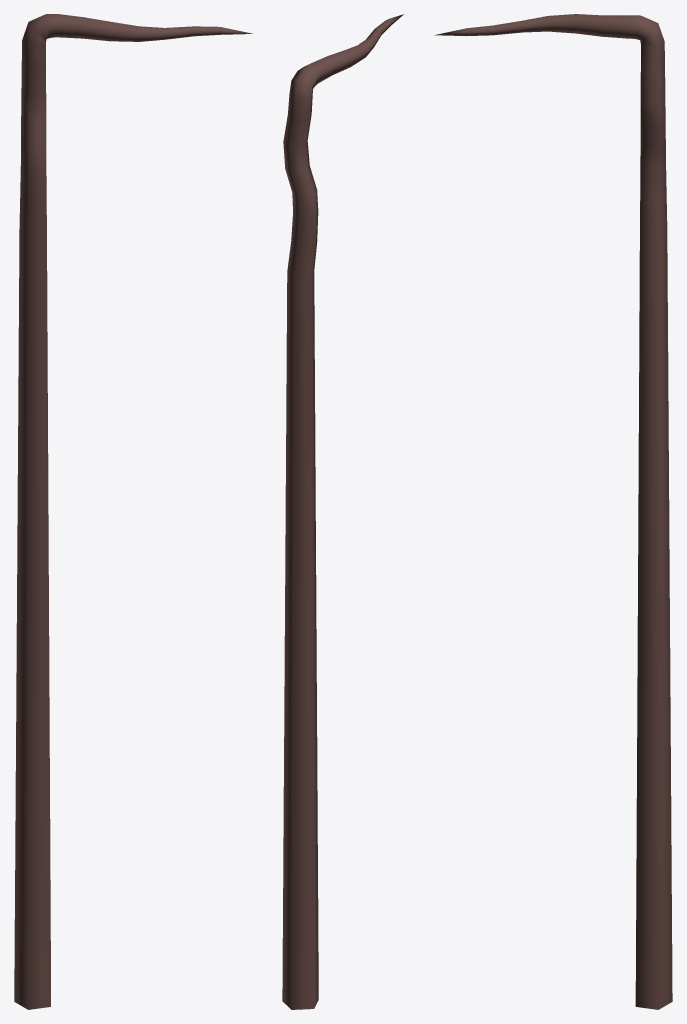
File: root_hole_001.fbx
The picture shows the model from 3 angles, left to right: view 1: azimuth 90°, elevation 25°; view 2: azimuth 150°, elevation 25°; view 3: azimuth 270°, elevation 25°; orthographic projection. The views are drawn at different scales.
Parts seen in each view (by area): view 1: root.hole.001; view 2: root.hole.001; view 3: root.hole.001.
Boxes of the visible parts, bbox=[...] form: root.hole.001: bbox=[14, 14, 252, 1009]; root.hole.001: bbox=[282, 14, 403, 1009]; root.hole.001: bbox=[434, 14, 672, 1009].
Size of the model in its own units: 77.8 by 2038 by 448.
